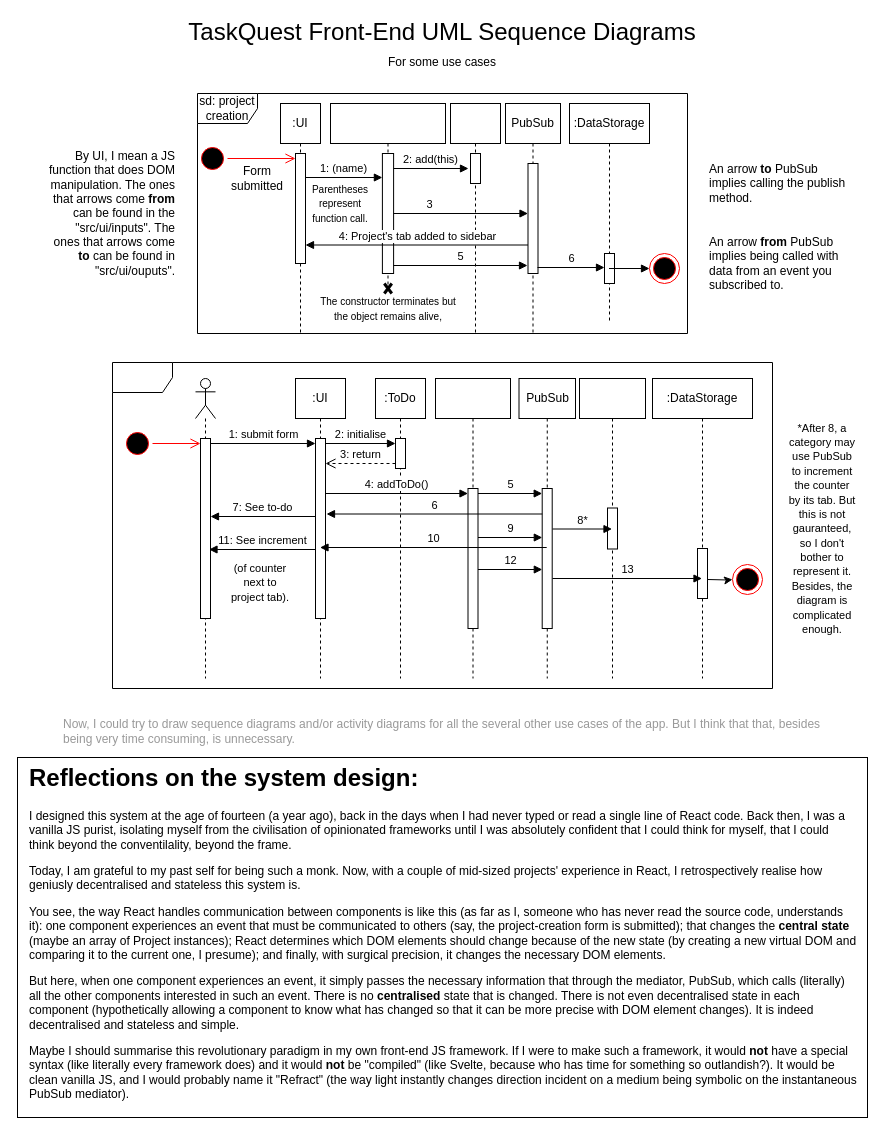
Some shapes in this 885 by 1135 pixel diagram are drawn without their labels. The box of each missing label's shape, as (x1, y1, x2, y2) in pixels:
:Category: (578, 378, 646, 678)
:Project: (434, 378, 510, 678)
:ProjectConstructor: (330, 102, 446, 294)
Projects: (450, 102, 500, 334)
sd: to-do creation: (112, 362, 772, 688)
